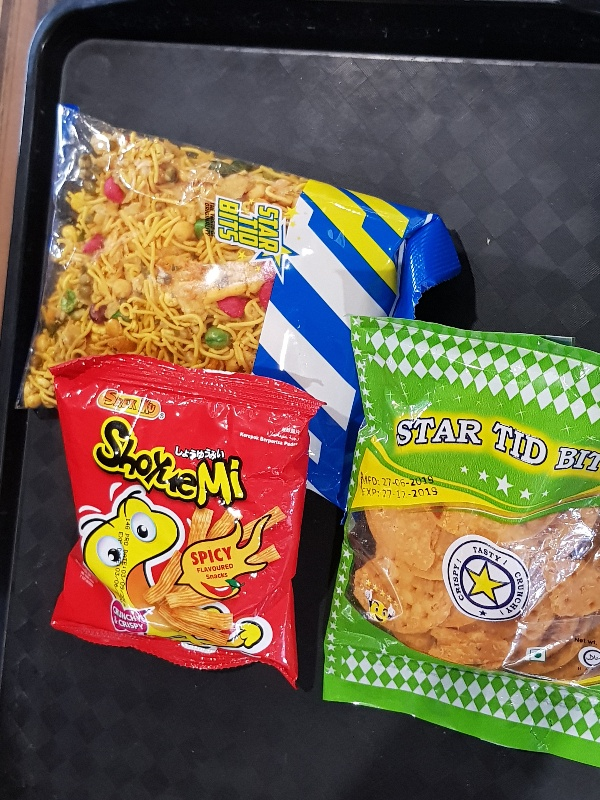ShoyueMi Spicy Flavoured Snacks: (49, 353, 323, 688)
Star Tidbits 'O' Ring: (320, 313, 600, 768)
Star Tidbits Mixer: (16, 100, 458, 513)
